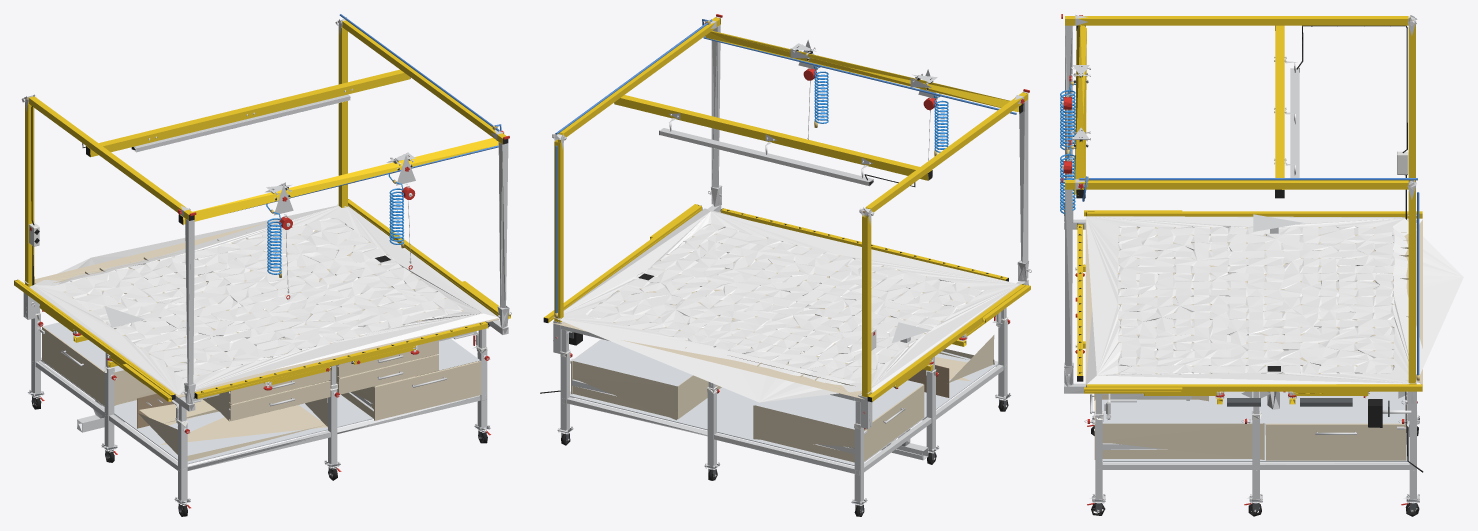
Rendered from workbench.glb.
3 renders of one model, left to right at view 1: azimuth 30°, elevation 25°; view 2: azimuth 150°, elevation 25°; view 3: azimuth 270°, elevation 25°, orthographic. The views are drawn at different scales.
Parts seen in each view (by area): view 1: Static__Plywood, Static__Yellow_Paint, Static__Alu_Satin, Static__Poplar_Ply, Static__PP_Translucent, Drawer_Deep_Front__Poplar_Ply, Drawer_Side_Left__Poplar_Ply, Drawer_2__Poplar_Ply, Drawer_4__Poplar_Ply, Static__Aluminium, Static__Hose_Blue_PU, Static__Rubber (+5 smaller); view 2: Static__Plywood, Static__Yellow_Paint, Static__Alu_Satin, Static__PP_Translucent, Static__Poplar_Ply, Drawer_Side_Left__Poplar_Ply, Drawer_Side_Right__Poplar_Ply, Static__Aluminium, Static__PA_Tube_Blue, Static__Hose_Blue_PU, Static__Rubber, Static__Chrome (+1 smaller); view 3: Static__Plywood, Static__Yellow_Paint, Static__Alu_Satin, Static__PP_Translucent, Static__Poplar_Ply, Drawer_Side_Right__Poplar_Ply, Drawer_Deep_Front__Poplar_Ply, Static__Rubber, Static__PA_Tube_Blue, Static__Steel_Paint, Static__Hose_Blue_PU, Static__Aluminium (+3 smaller).
Boxes of the visible parts, box(x1,y1,x2,y2) form: Static__Plywood: box(29, 205, 498, 394); Static__Yellow_Paint: box(14, 20, 510, 401); Static__Alu_Satin: box(23, 17, 509, 502); Static__Poplar_Ply: box(23, 205, 499, 461); Static__PP_Translucent: box(41, 322, 480, 464); Drawer_Deep_Front__Poplar_Ply: box(341, 361, 481, 420); Drawer_Side_Left__Poplar_Ply: box(42, 326, 156, 405); Drawer_2__Poplar_Ply: box(203, 381, 330, 421); Drawer_4__Poplar_Ply: box(337, 354, 438, 394); Static__Aluminium: box(133, 94, 350, 152); Static__Hose_Blue_PU: box(266, 174, 404, 274); Static__Rubber: box(14, 77, 508, 516); Static__Plywood: box(554, 208, 1019, 402); Static__Yellow_Paint: box(544, 17, 1030, 401); Static__Alu_Satin: box(553, 20, 1028, 502); Static__PP_Translucent: box(570, 339, 997, 465); Static__Poplar_Ply: box(552, 224, 1017, 447); Drawer_Side_Left__Poplar_Ply: box(754, 384, 924, 462); Drawer_Side_Right__Poplar_Ply: box(571, 339, 721, 419); Static__Aluminium: box(659, 128, 873, 185); Static__PA_Tube_Blue: box(555, 19, 1016, 313); Static__Hose_Blue_PU: box(813, 65, 948, 152); Static__Rubber: box(540, 17, 1026, 516); Static__Chrome: box(552, 44, 1031, 512); Static__Plywood: box(1086, 216, 1463, 384); Static__Yellow_Paint: box(1065, 16, 1422, 404); Static__Alu_Satin: box(1064, 15, 1419, 500); Static__PP_Translucent: box(1102, 391, 1409, 461); Static__Poplar_Ply: box(1085, 219, 1422, 459); Drawer_Side_Right__Poplar_Ply: box(1266, 423, 1406, 460); Drawer_Deep_Front__Poplar_Ply: box(1094, 399, 1252, 459); Static__Rubber: box(1076, 25, 1423, 516); Static__PA_Tube_Blue: box(1079, 176, 1419, 375); Static__Steel_Paint: box(1092, 398, 1419, 512); Static__Hose_Blue_PU: box(1060, 83, 1075, 214); Static__Aluminium: box(1290, 68, 1299, 177).
Bounding box in the file's own units: 2.24 × 2 × 2.13.
